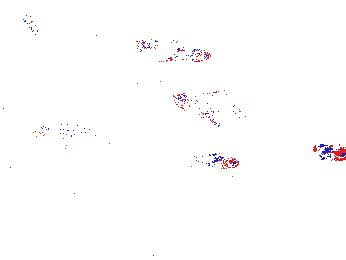red belly glassfish: (189, 149, 241, 172), (309, 142, 346, 165)
redtail glassfish: (30, 121, 130, 154), (168, 87, 247, 125), (130, 34, 212, 65), (108, 70, 166, 102), (1, 4, 43, 39)
